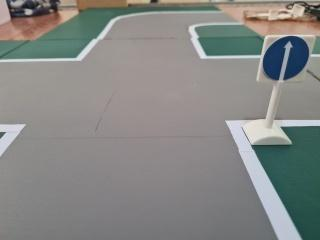straight: (258, 31, 312, 83)
